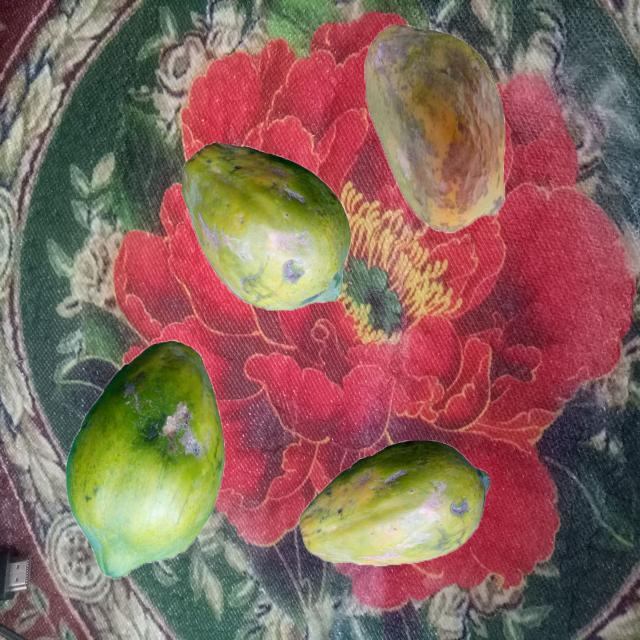Pepaya rippen: (60, 356, 231, 590), (352, 19, 520, 233), (177, 135, 355, 315), (291, 446, 501, 576)
